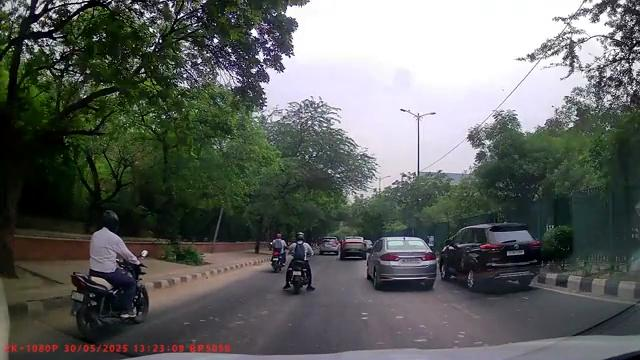motorcycle_with_helmet: (68, 208, 151, 340), (281, 231, 317, 295), (270, 231, 286, 272)
